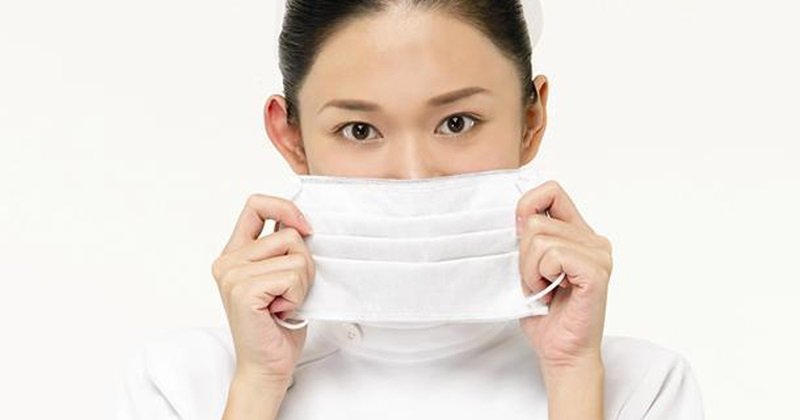face_mask: (285, 24, 550, 322)
